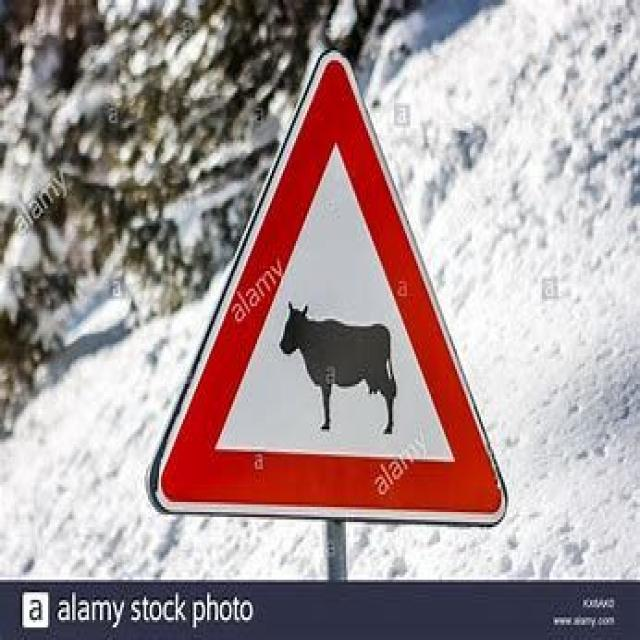CATTLE: (147, 52, 508, 528)
